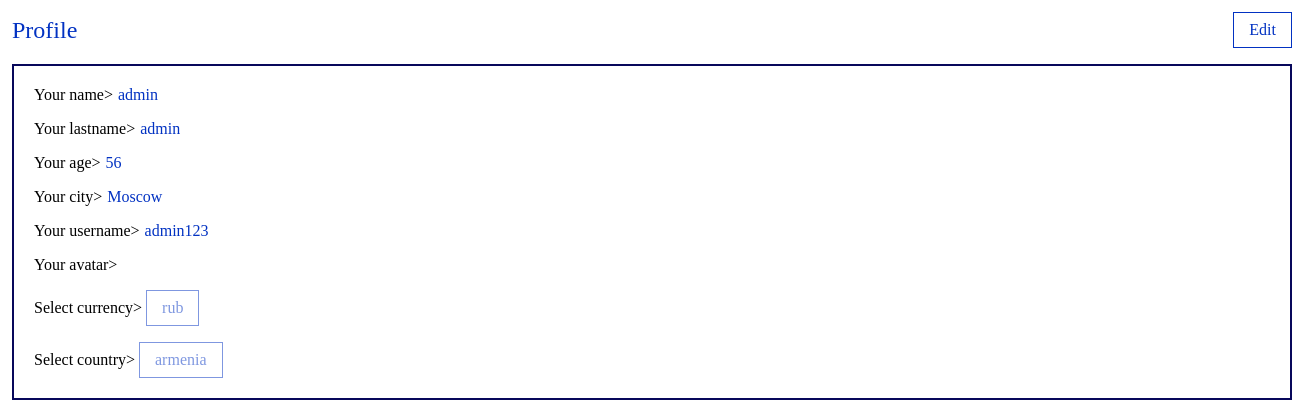
Test: EditableProfileCard › Режим readonly должен переключиться
Step 1. Click the button with test id "editable-profile-card-header.edit-button" → (1263, 30), box [1233,12,1292,48]
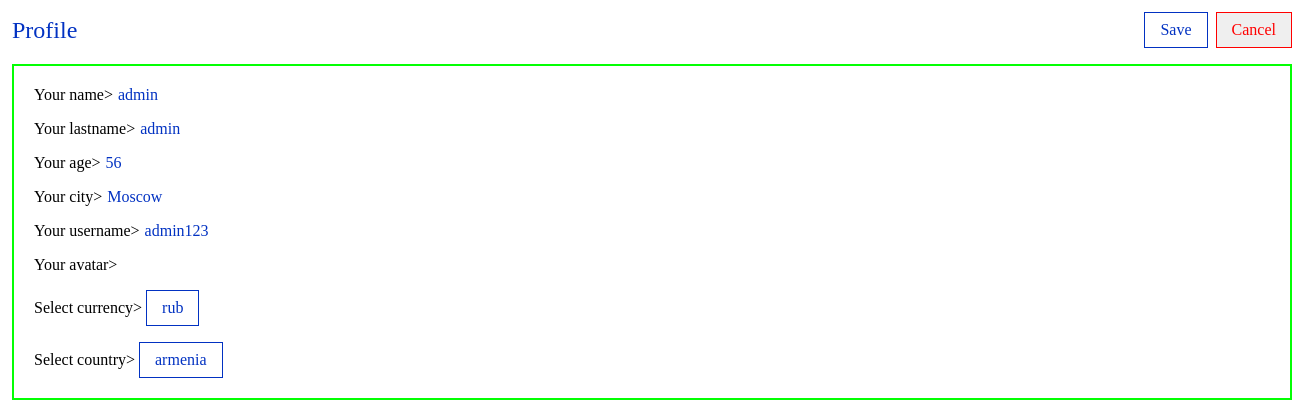
Expected: the button with test id "editable-profile-card-header.cancel-button" is shown, [1216,12,1292,48]
